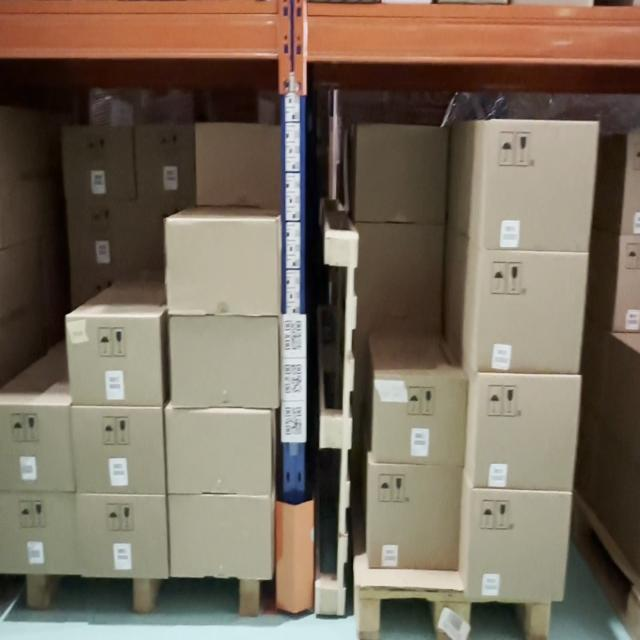box: (490, 120, 586, 250), (477, 252, 582, 370), (476, 378, 574, 486), (167, 222, 277, 315), (472, 494, 564, 599), (370, 468, 462, 567), (173, 319, 276, 407), (167, 410, 271, 494), (360, 226, 443, 328), (359, 128, 444, 221), (72, 408, 163, 493), (375, 378, 464, 464), (172, 500, 270, 577), (73, 319, 159, 405), (0, 493, 80, 576), (199, 128, 280, 208), (84, 498, 165, 576), (0, 403, 71, 491), (65, 129, 134, 202), (138, 128, 195, 198), (70, 206, 133, 263)
